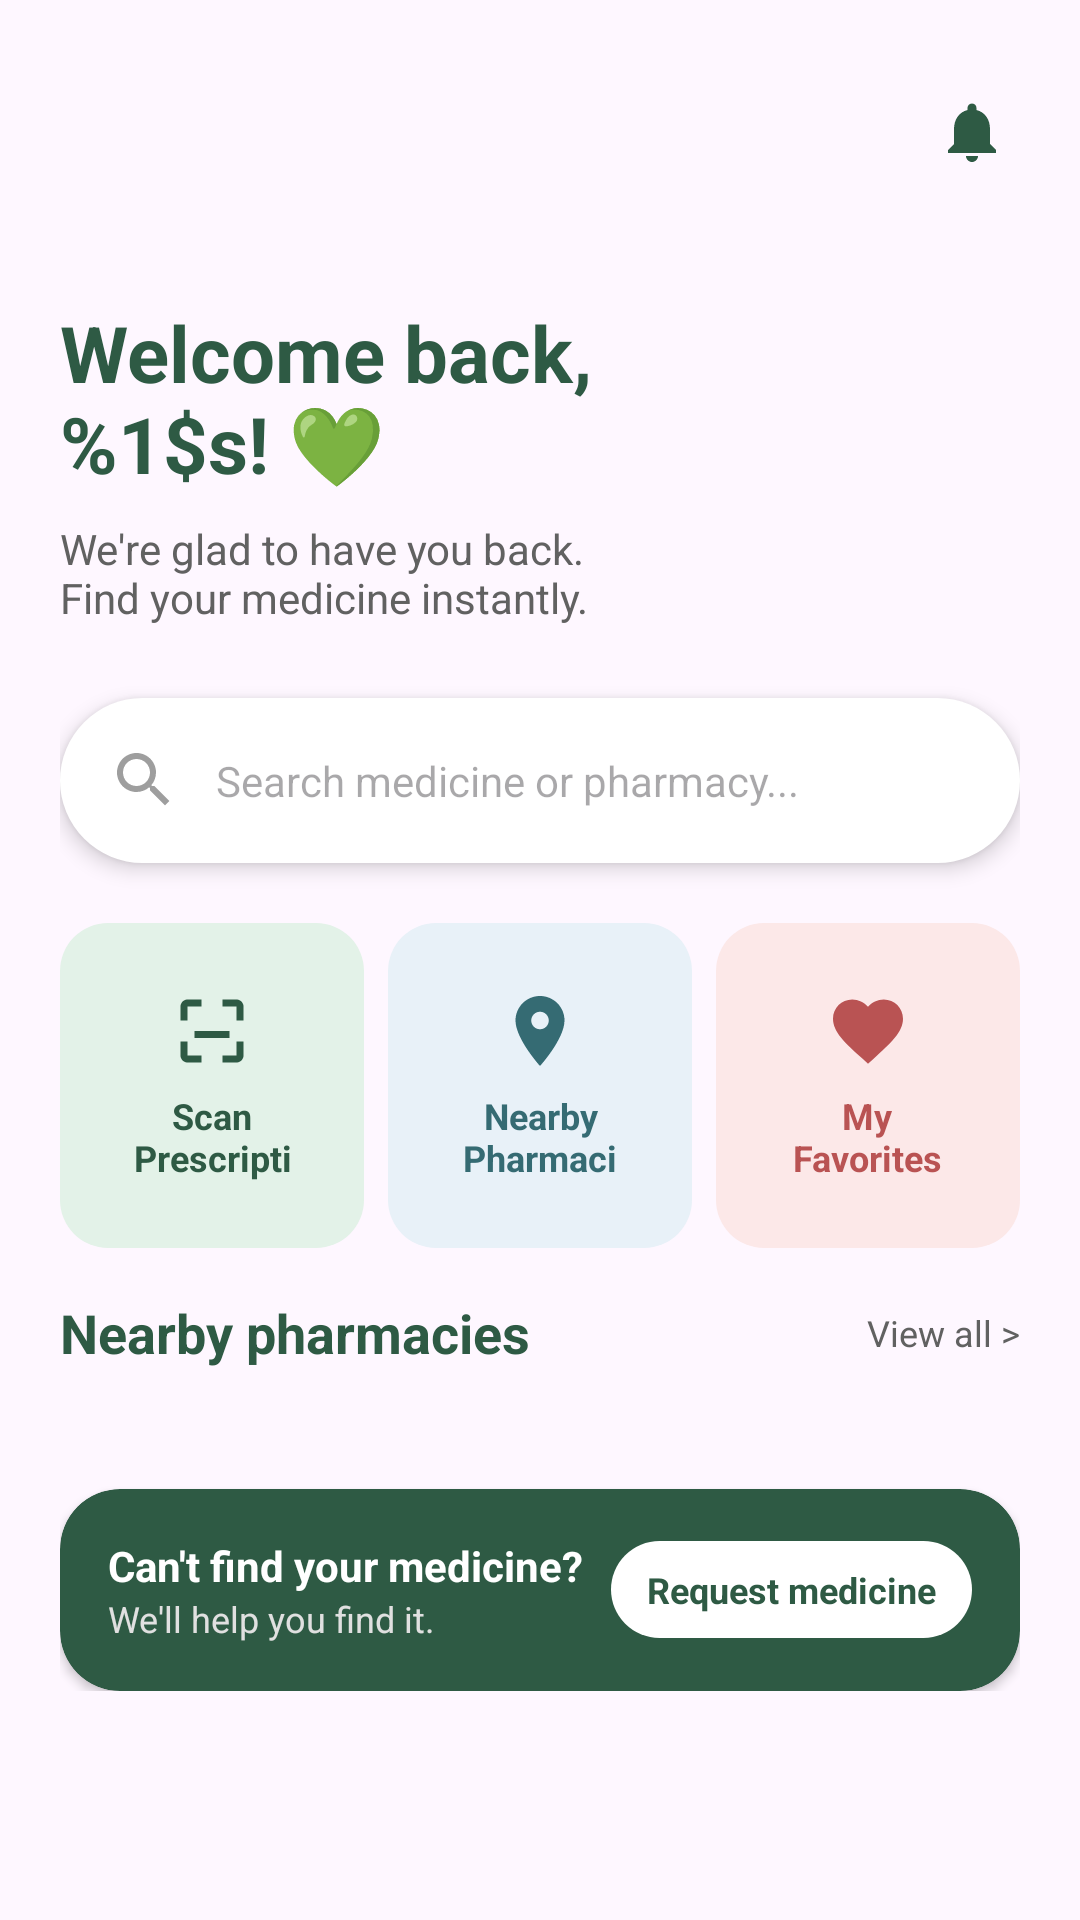

Where icons sit on this 1080x1920 app screen, as box(x1, y1, x2, y2):
location: box(515, 996, 565, 1066)
notifications: box(948, 103, 996, 162)
